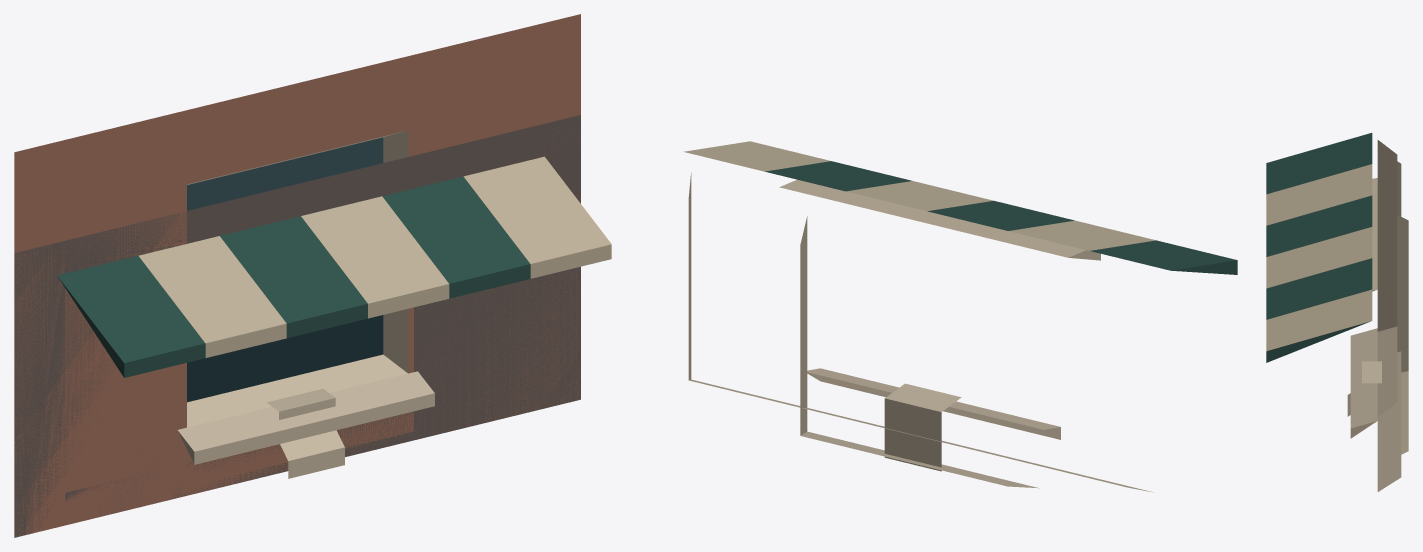
File: apartment-kit.glb
3 views of the same model, side by side, from view 1: azimuth 30°, elevation 25°; view 2: azimuth 150°, elevation 25°; view 3: azimuth 270°, elevation 25° (orthographic). The views are drawn at different scales.
Parts seen in each view (by area): view 1: Apartment_upper, Apartment_shop, Apartment_entry, Apartment_cornice; view 2: Apartment_shop, Apartment_entry, Apartment_cornice, Apartment_upper; view 3: Apartment_shop, Apartment_upper, Apartment_entry, Apartment_cornice.
Boxes of the visible parts, x1,y1,x2,y2 form: Apartment_upper: [14, 14, 580, 537]; Apartment_shop: [14, 115, 611, 537]; Apartment_entry: [14, 115, 580, 537]; Apartment_cornice: [267, 388, 344, 478]; Apartment_shop: [683, 141, 1237, 492]; Apartment_entry: [779, 179, 1100, 488]; Apartment_cornice: [884, 383, 961, 471]; Apartment_upper: [807, 368, 1060, 439]; Apartment_shop: [1266, 133, 1401, 491]; Apartment_upper: [1350, 140, 1397, 438]; Apartment_entry: [1372, 178, 1408, 454]; Apartment_cornice: [1347, 361, 1381, 416].
Bounding box in the file's own units: 10 × 6.5 × 2.75.
